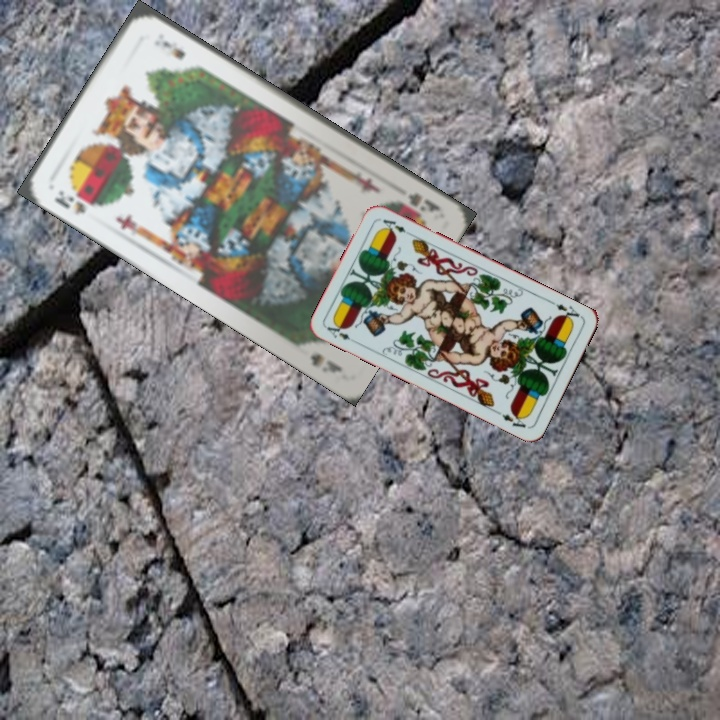EA: (323, 319, 361, 346), (552, 300, 584, 325)
SK: (392, 188, 444, 218), (50, 186, 89, 218)
